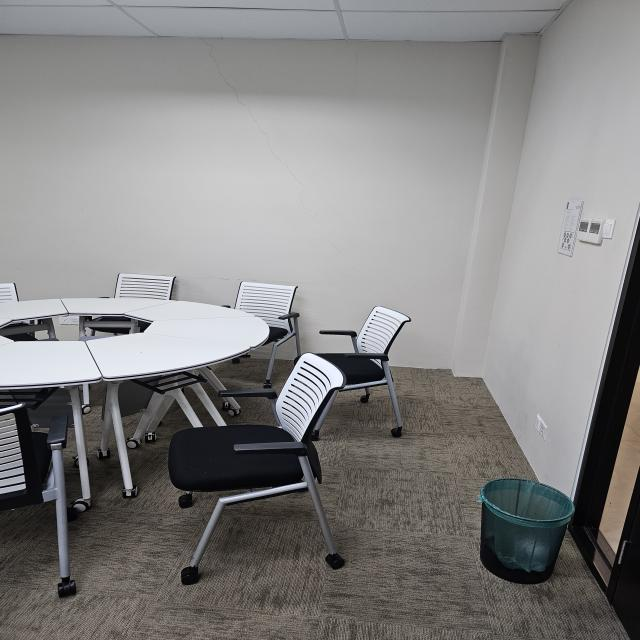obstacle: (2, 293, 273, 509), (166, 351, 350, 586), (472, 474, 578, 586), (339, 308, 428, 429)
